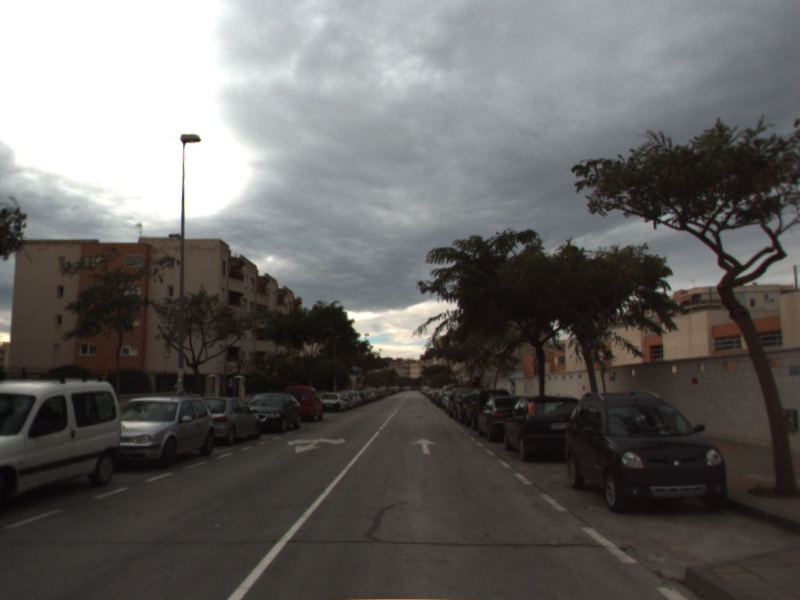STRAIGHT: (410, 436, 439, 456)
